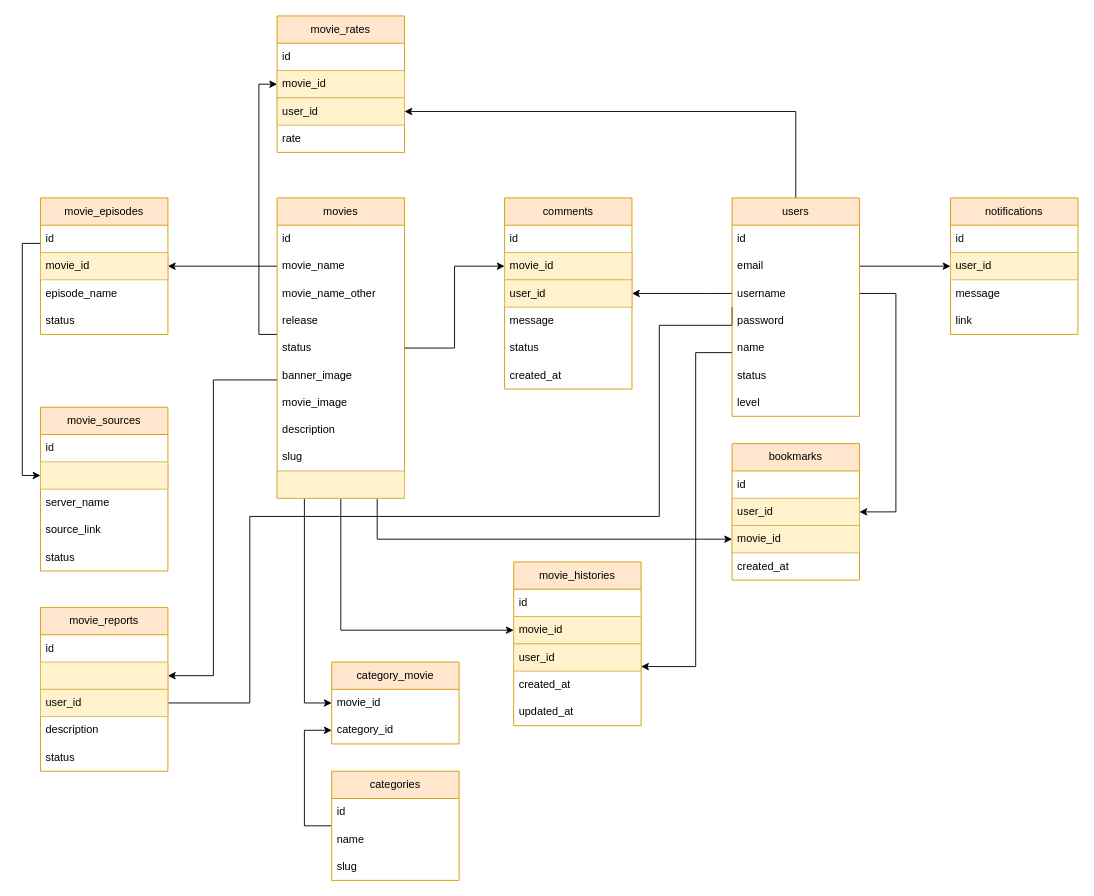
The diagram is 1094 pixels wide and 896 high, and some of its shapes have lost their labels. The shapes that lost their labels are listed below. From the top down, each one's centre as x and y in pixels, then its label:
(104,475): movie_episode _id
(340,484): parent_id
(104,675): movie _id
